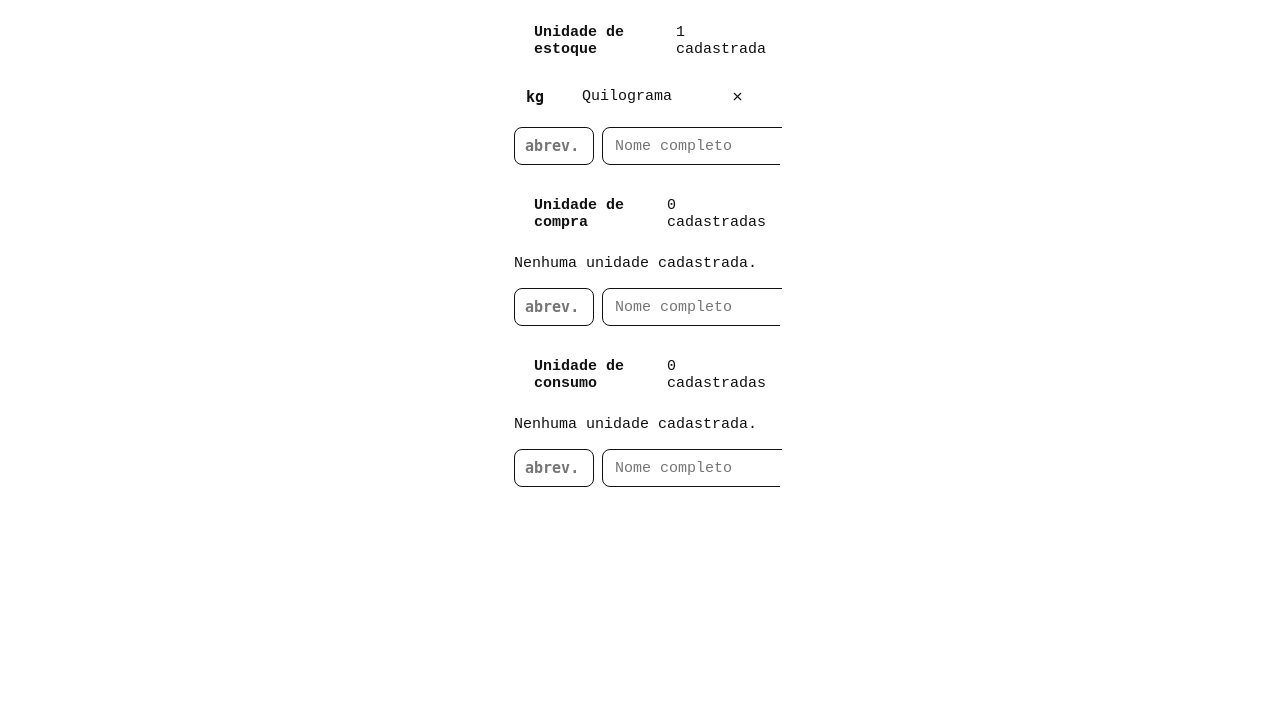
Test: UnidadesMedidaTab, cascata de exclusão (B1) › falha no passo 1 interrompe a cascata e mantém a unidade na tela
This screenshot has width=1280, height=720.
Expected: the text "Quilograma" is shown, [582,88,672,105]
Click the button titled "Remover" at (738, 96), box [721,82,754,111]
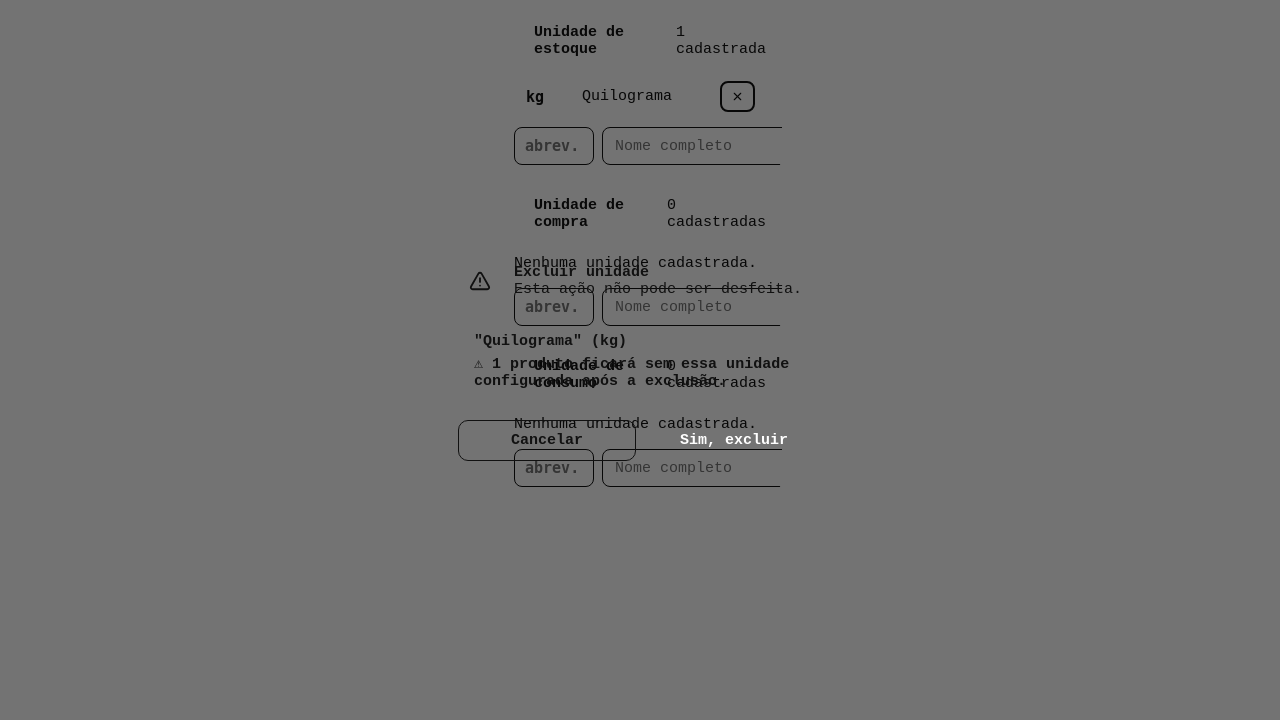
Click the button "Sim, excluir" at (734, 440), box [646,420,822,461]
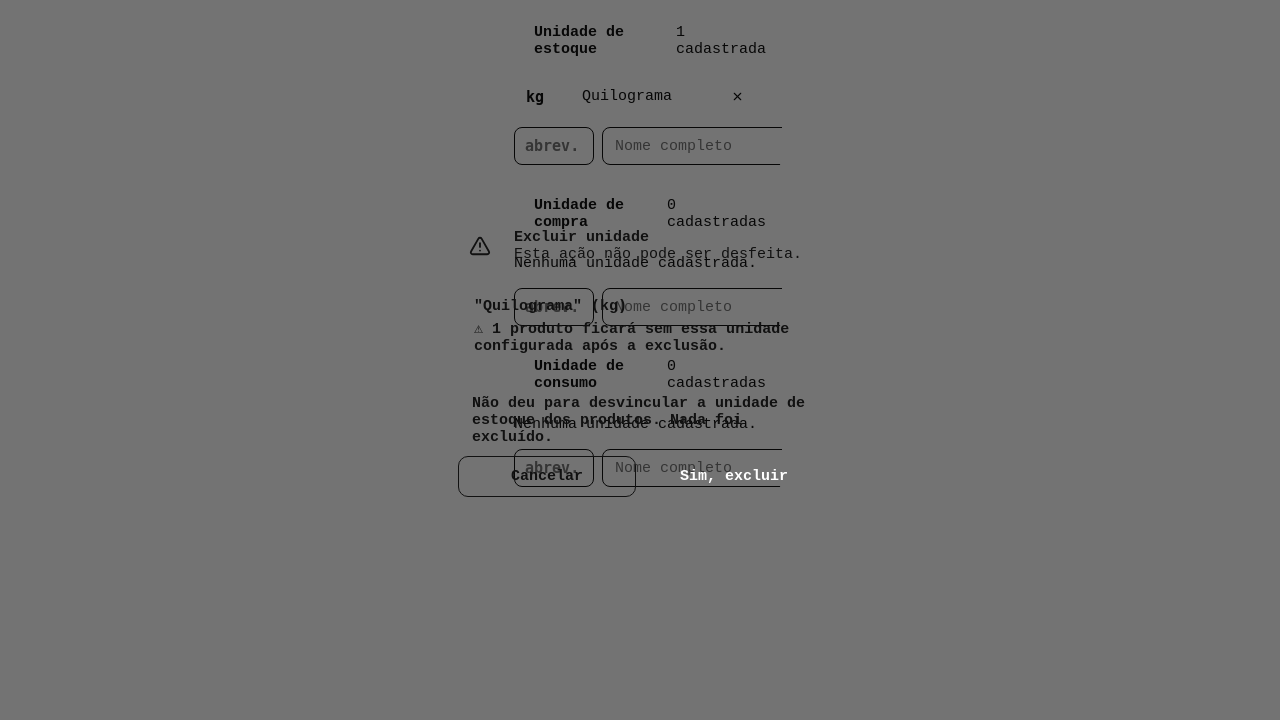
Expected: the text "Quilograma" is shown, [582,88,672,105]
Now the text "Excluir unidade" is shown, box [514,228,649,246]
Now the message shows "Não deu para desvincular a unidade de estoque", box [472,394,805,446]
